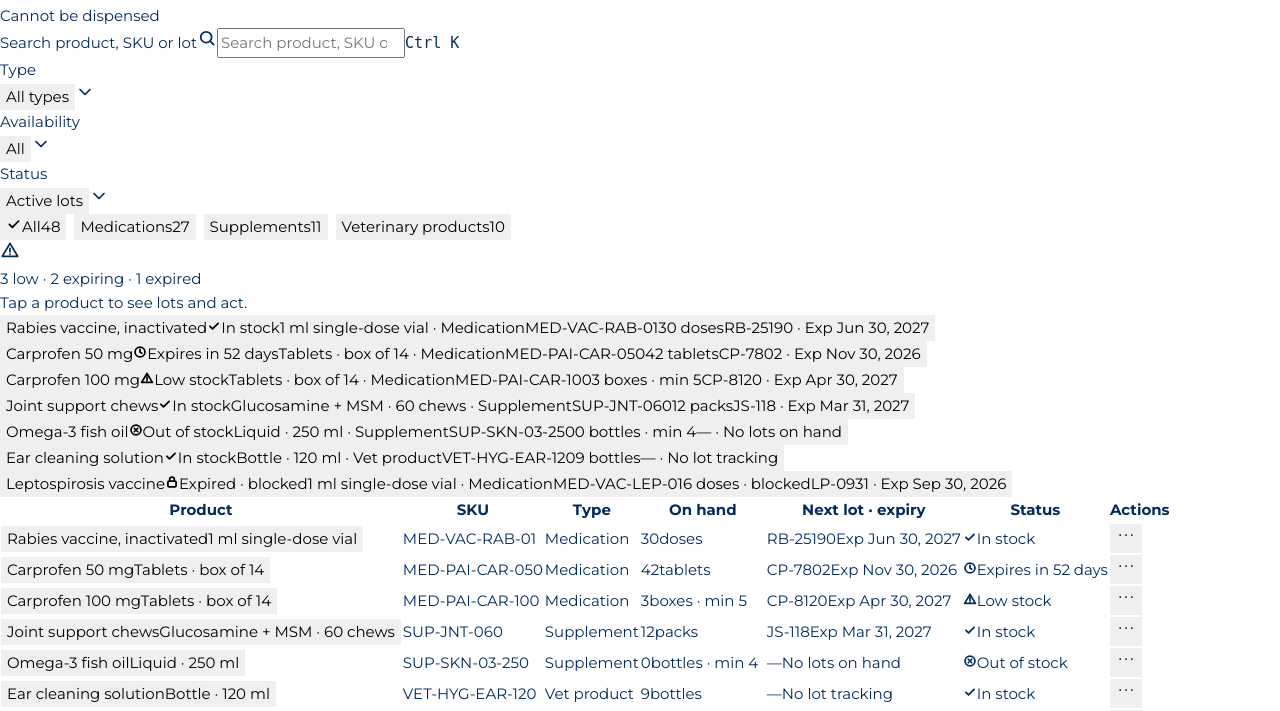
Test: StaffInventory › opens the detail of a product in the side panel with its lots and movements
(page scrolled)
Click the button with aria-label "Open Carprofen 50 mg".
click(463, 354)  # box [0, 341, 927, 367]
(page scrolled)
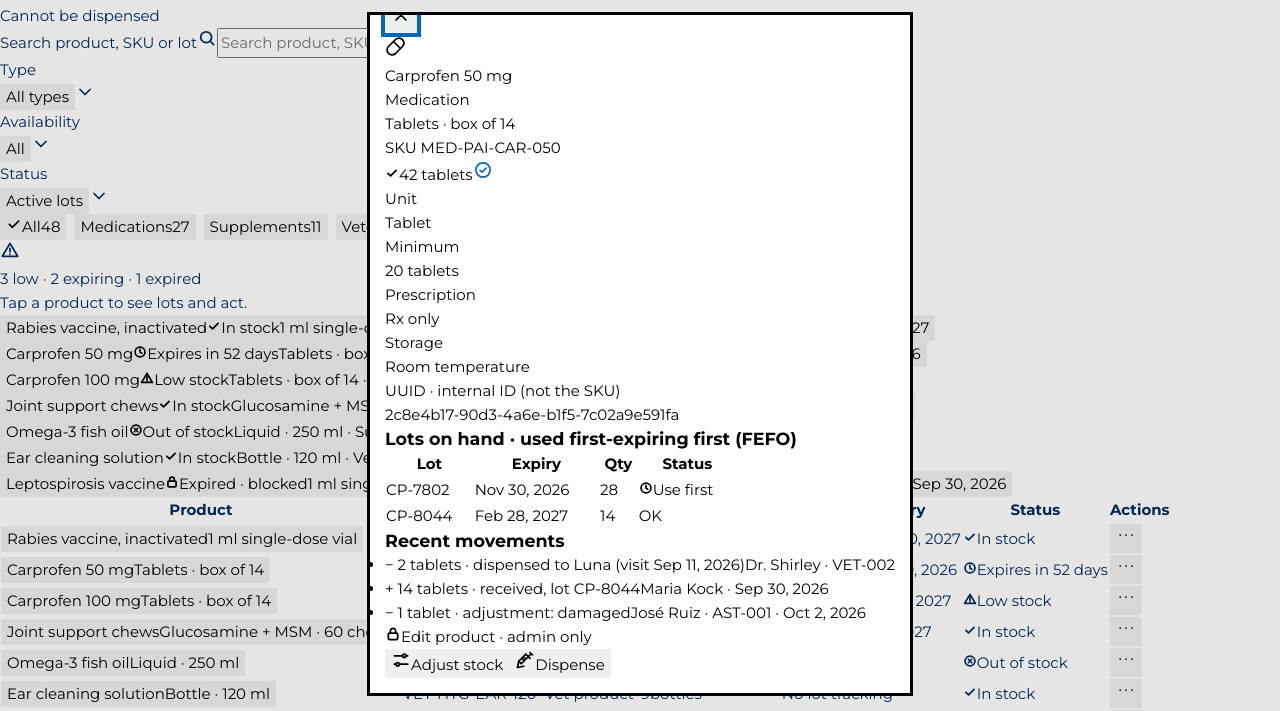
Result: the heading "Lots on hand · used first-expiring first (FEFO)" is shown at [385, 428, 797, 449]
Result: the text "Use first" is shown at [639, 480, 713, 499]
Result: the text "− 2 tablets · dispensed to Luna (visit Sep 11, 2026)" is shown at [385, 555, 745, 574]
